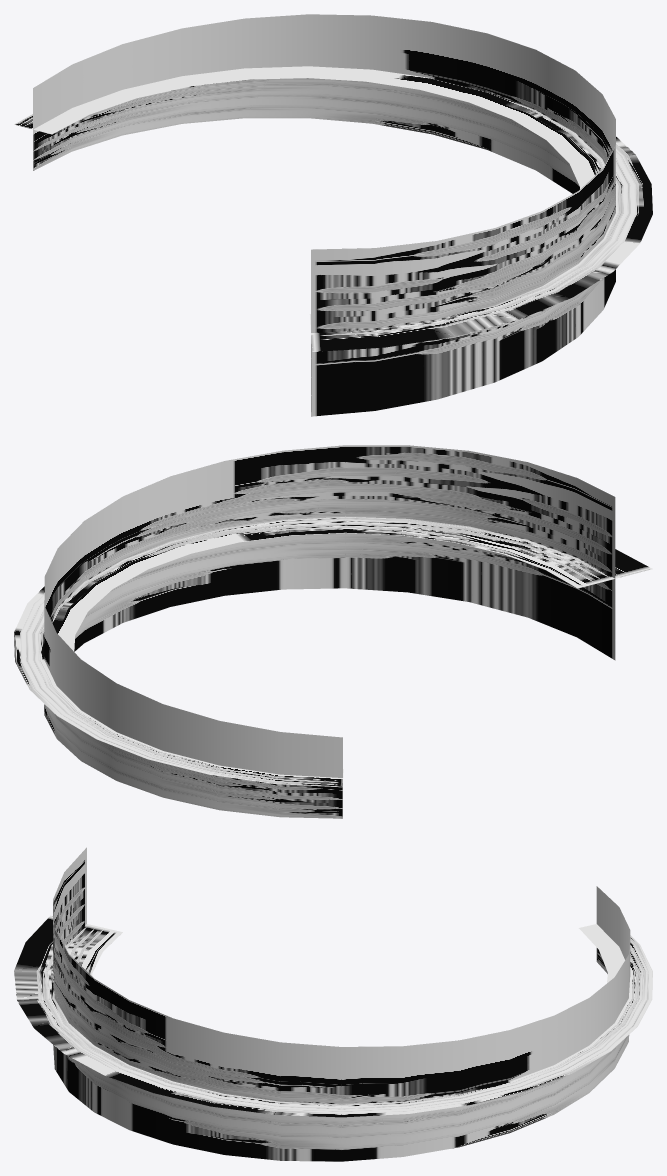
File: 3cenghufeng_1.FBX
3 renders of one model, top to bottom at view 1: azimuth 30°, elevation 25°; view 2: azimuth 150°, elevation 25°; view 3: azimuth 270°, elevation 25°, orthographic. The views are drawn at different scales.
Parts seen in each view (by area): view 1: 3cenghufeng_1; view 2: 3cenghufeng_1; view 3: 3cenghufeng_1.
Part boxes in pixels (box(x1,y1,x2,y2)): 3cenghufeng_1: box(14, 14, 652, 416); 3cenghufeng_1: box(14, 445, 652, 818); 3cenghufeng_1: box(14, 847, 652, 1161).
Size of the model in its own units: 75.11 by 26.6 by 101.
